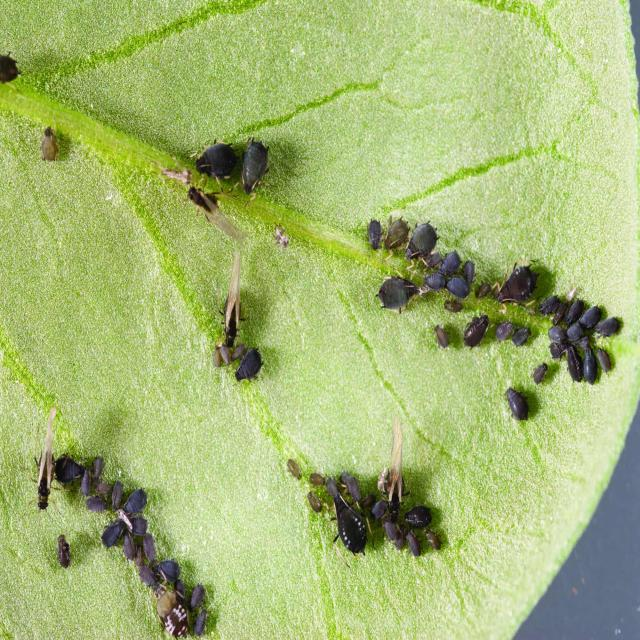Aphid-Grouped-: (372, 209, 626, 420), (43, 442, 210, 638), (290, 448, 451, 570)
Aphid-Grown-: (330, 492, 373, 558), (237, 133, 275, 203), (194, 130, 238, 190), (151, 578, 190, 639), (495, 258, 538, 306), (376, 268, 422, 311), (404, 218, 441, 264), (52, 443, 86, 488), (233, 348, 272, 387), (461, 309, 494, 351), (36, 120, 66, 163), (504, 384, 534, 424), (382, 212, 410, 251), (52, 532, 78, 573), (404, 502, 436, 532), (123, 484, 150, 518), (580, 344, 601, 387), (154, 555, 182, 586), (402, 526, 425, 563), (363, 215, 385, 252), (566, 342, 584, 386), (101, 518, 127, 548), (421, 525, 446, 556), (595, 341, 615, 378), (445, 274, 471, 302), (283, 454, 307, 484), (440, 246, 463, 276), (432, 321, 454, 352), (578, 303, 604, 328), (187, 578, 206, 612), (538, 289, 561, 317), (565, 296, 586, 326), (421, 270, 447, 294), (490, 318, 516, 342), (120, 530, 138, 564), (109, 478, 125, 516), (190, 607, 209, 639), (595, 314, 620, 338), (78, 463, 94, 500), (83, 493, 110, 514), (304, 488, 325, 515), (345, 474, 363, 505), (368, 497, 390, 522), (90, 454, 107, 486), (142, 532, 157, 568), (530, 358, 549, 386), (512, 325, 534, 349), (472, 276, 492, 302), (564, 321, 585, 344), (304, 468, 328, 488), (382, 519, 400, 544), (322, 475, 340, 499), (547, 323, 566, 345), (230, 338, 247, 362), (442, 297, 464, 315), (552, 300, 566, 326), (220, 340, 231, 366)
Aphid-Grown-have wings-: (185, 183, 246, 245), (217, 250, 254, 346), (381, 417, 411, 527), (32, 403, 59, 509)
